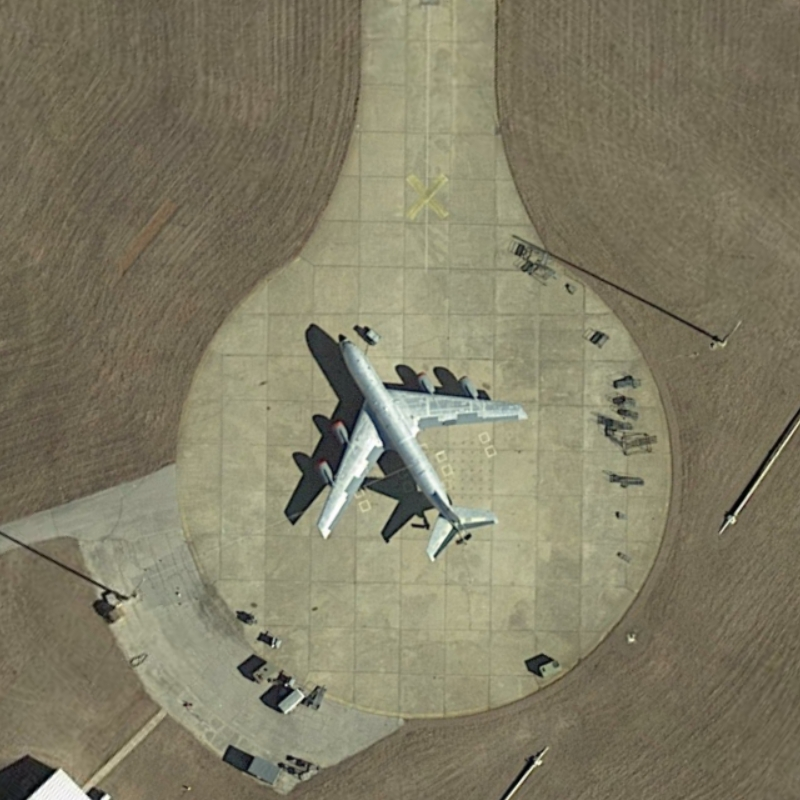A14: (312, 326, 533, 569)
